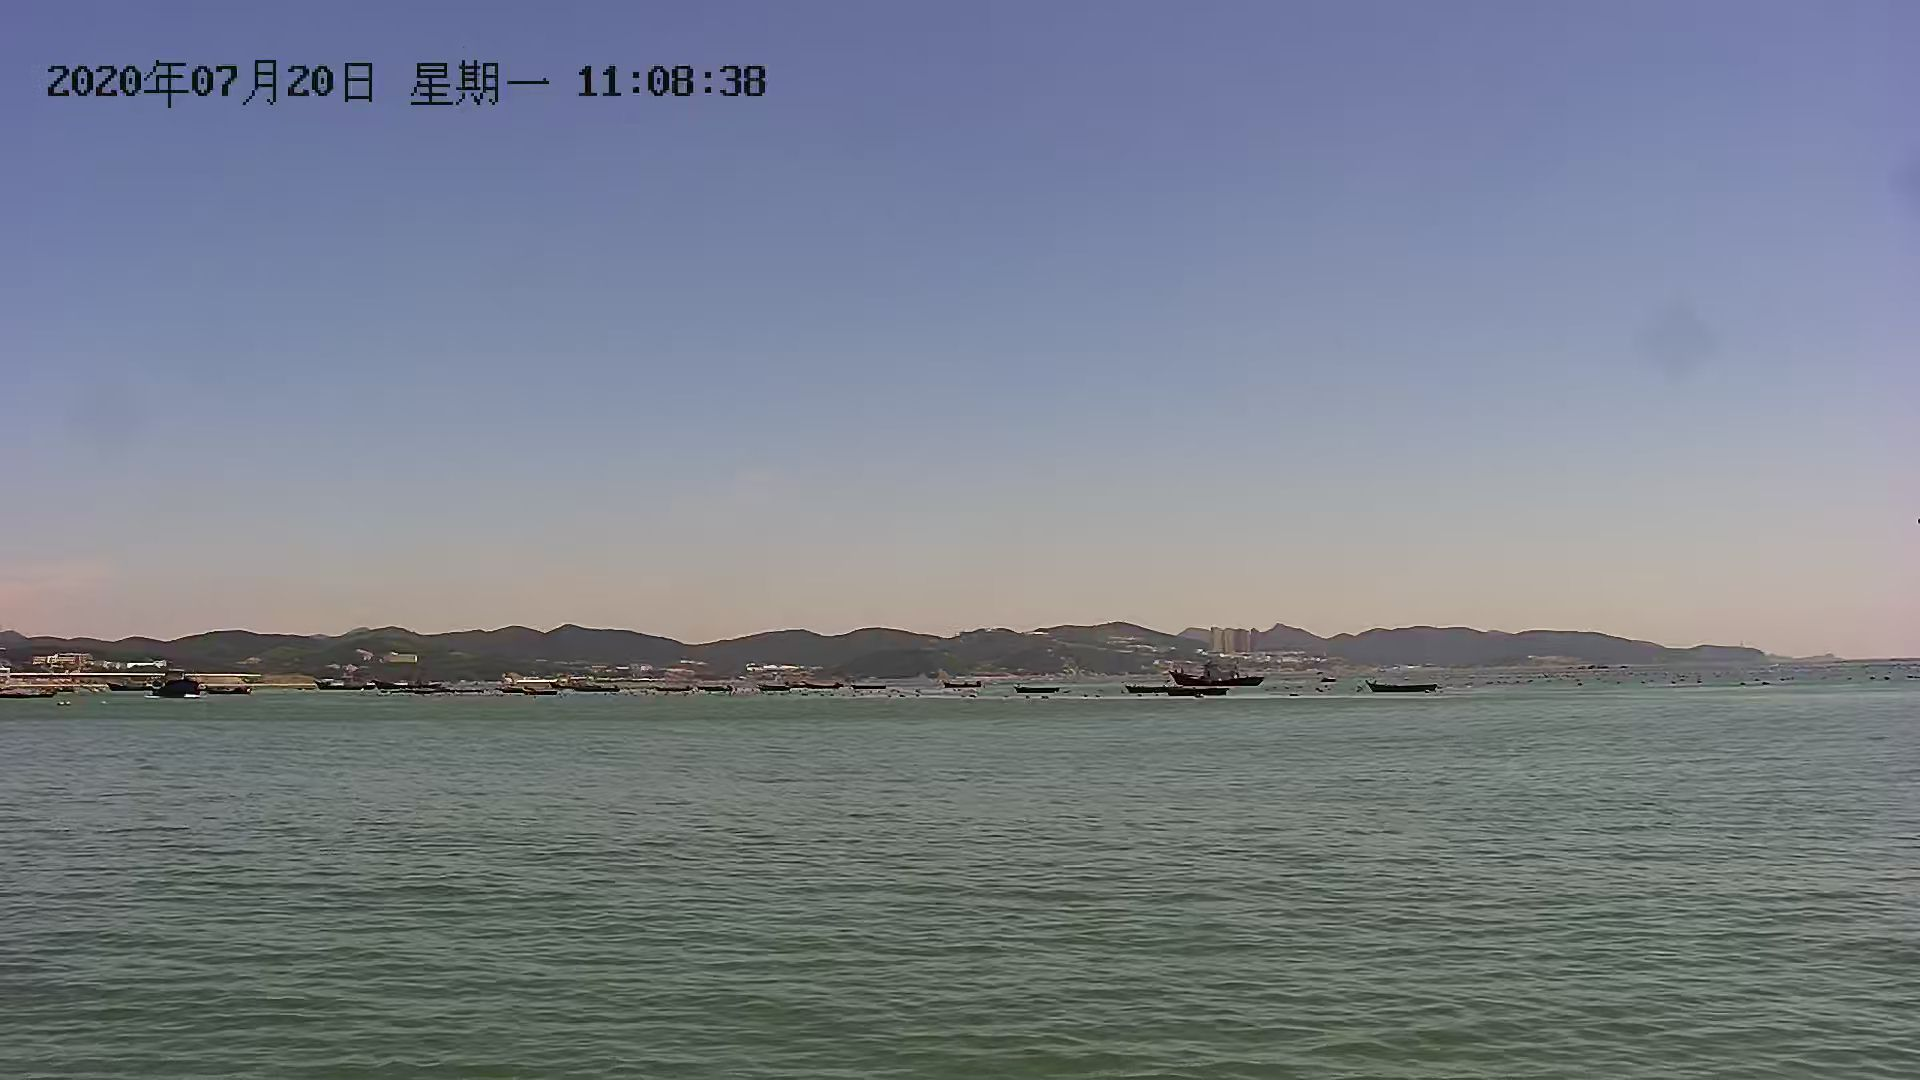boat: (1364, 679, 1443, 696), (1162, 683, 1232, 702), (1124, 680, 1182, 699), (1010, 682, 1067, 698), (938, 678, 992, 694), (208, 683, 255, 698)
ship: (1163, 658, 1266, 688)
